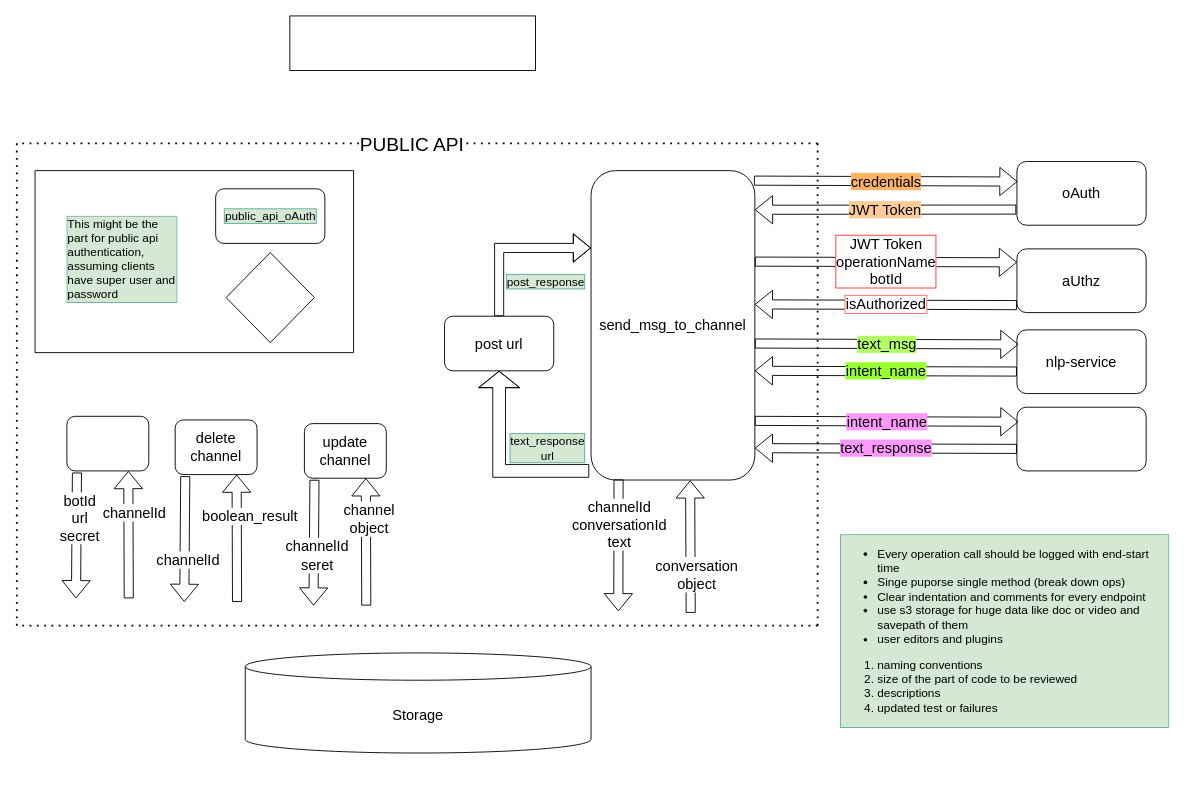
Image size: 1188x787. Some labels were removed from this diagram. Each missing label, with the centre of its shape:
bot-engine: (x=1081, y=438)
register channel: (x=107, y=443)
start_using endpoints: (x=269, y=297)
UI (Channel - Chat Widget): (x=412, y=43)
